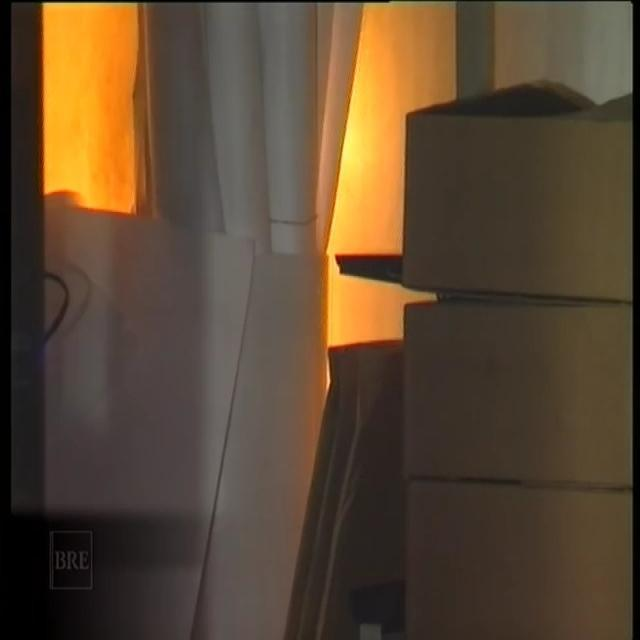Fire: (31, 10, 462, 305)
